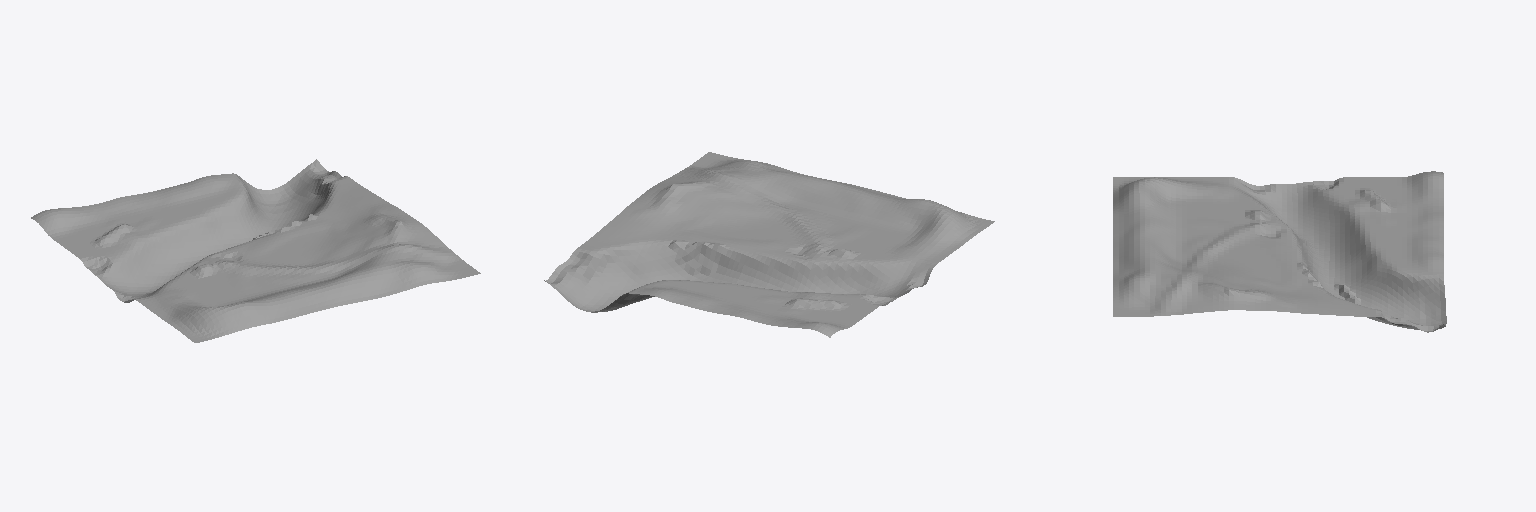
The model's file is ground.obj.
3 renders of one model, left to right at view 1: azimuth 30°, elevation 25°; view 2: azimuth 150°, elevation 25°; view 3: azimuth 270°, elevation 25°, orthographic.
Parts seen in each view (by area): view 1: Plane; view 2: Plane; view 3: Plane.
Boxes of the visible parts, box(x1,y1,x2,y2) form: Plane: box(31, 159, 480, 342); Plane: box(544, 152, 994, 337); Plane: box(1113, 171, 1446, 332).
Bounding box in the file's own units: 85.23 × 13.47 × 83.98.